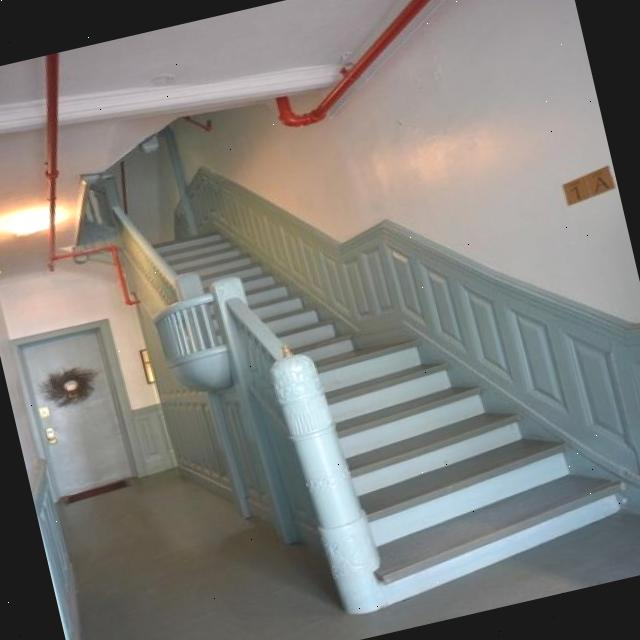stairs: (148, 148, 638, 638)
